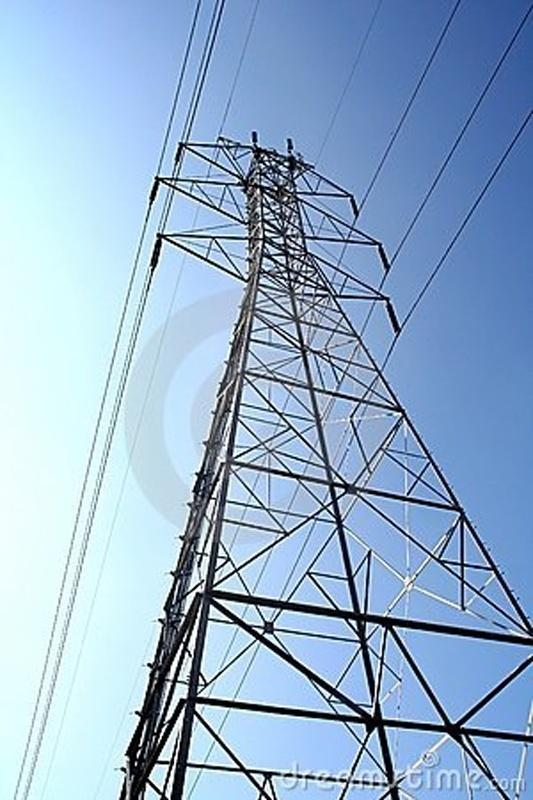power_tower: (139, 119, 529, 735)
